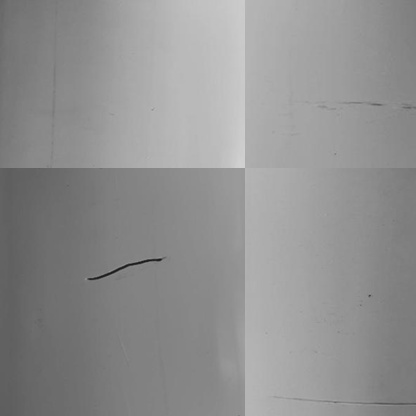fengxi: (83, 257, 176, 284)
sunshang: (267, 388, 412, 408)
